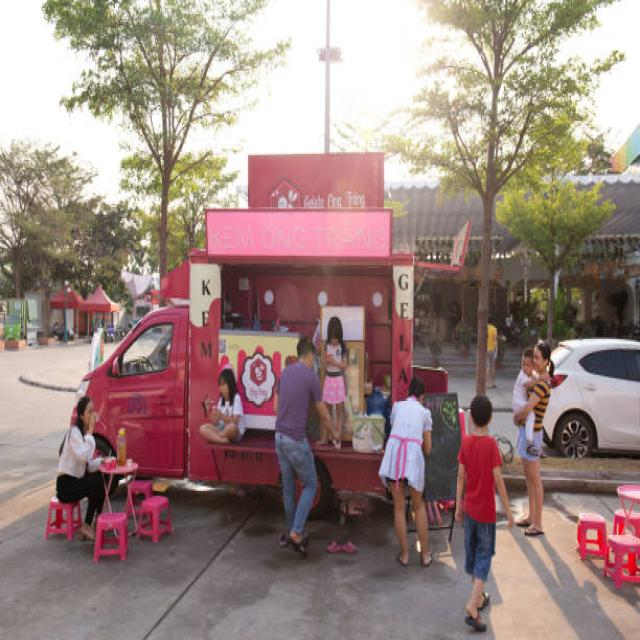Emperan: (46, 113, 478, 592)
